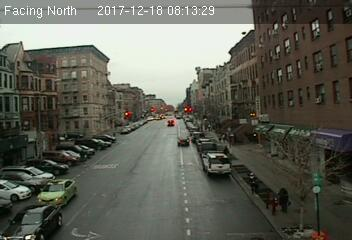car: (34, 177, 78, 206), (176, 136, 190, 146)
truck: (203, 150, 231, 173)
